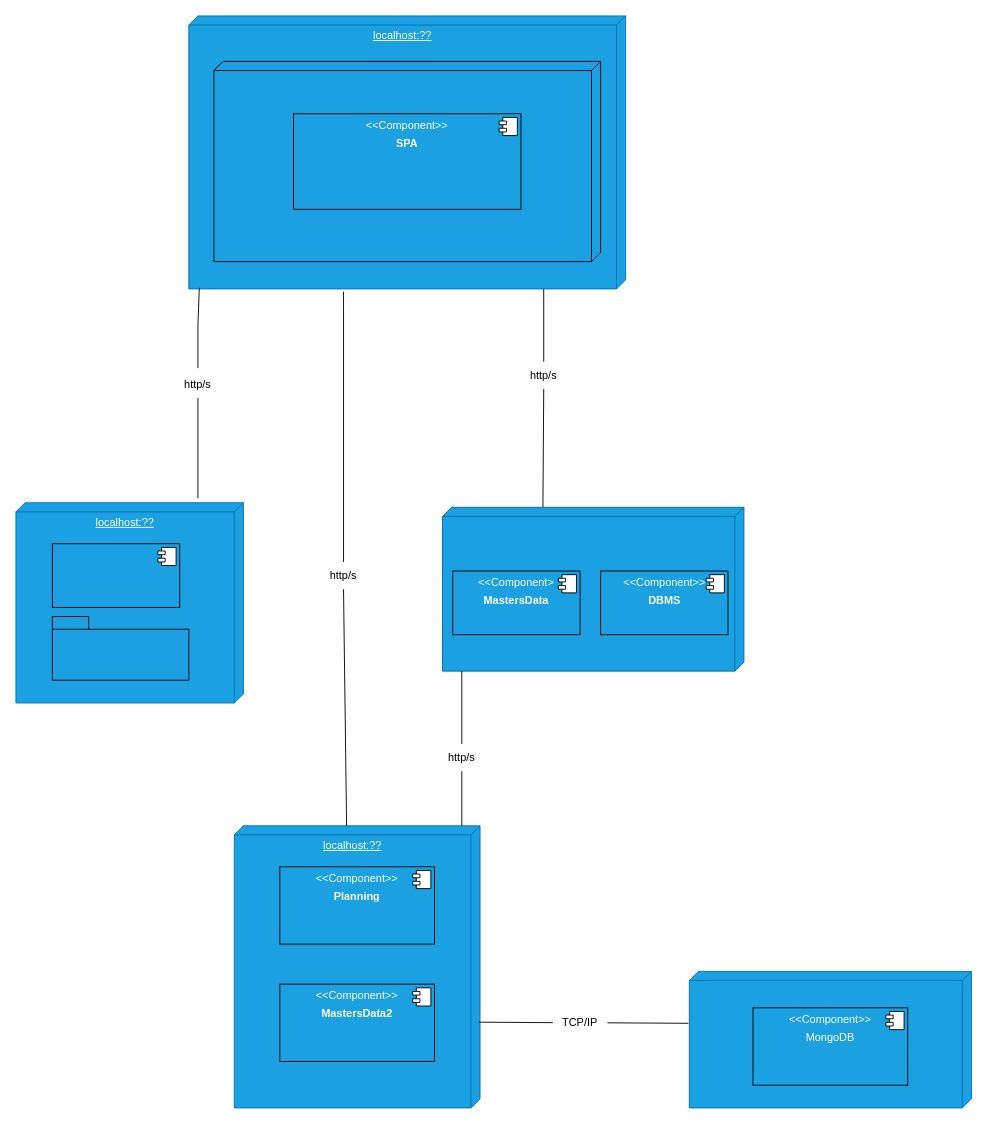
The diagram is 987 pixels wide and 1124 high, and some of its shapes have lost their labels. The shapes that lost their labels are listed below. From the top down, each one's box as (x1, y1, x2, y2) in pixels, then its label:
(213, 61, 601, 262): Browser
(51, 543, 180, 607): <<Component>> HTTP Server
(442, 506, 744, 671): VM:UVM055
(51, 616, 189, 680): SPA
(688, 971, 971, 1108): mongoDB:gtw4
